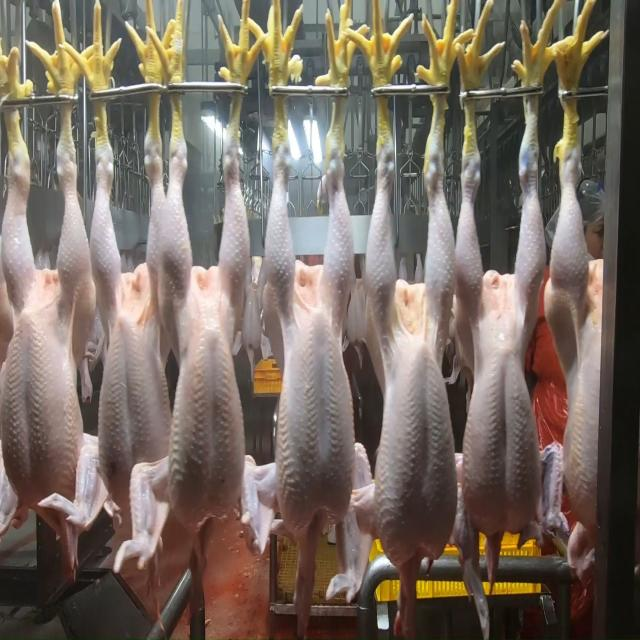chicken: (362, 142, 458, 564), (0, 100, 94, 517), (453, 127, 545, 547), (153, 141, 250, 538), (262, 146, 356, 535), (90, 120, 174, 510), (543, 141, 611, 528)
